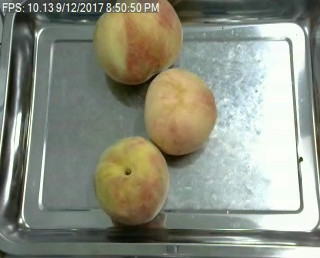Peach: (92, 0, 182, 85), (93, 135, 169, 225), (143, 68, 216, 156)
